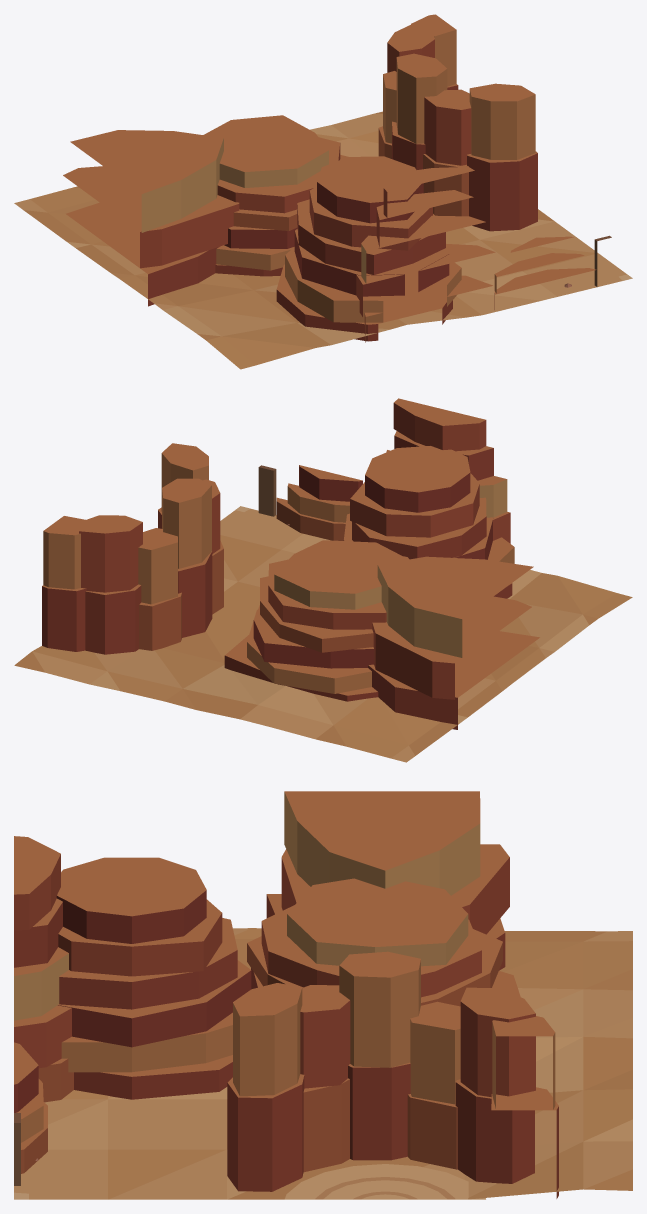
3 views of the same model, one above another, from view 1: azimuth 30°, elevation 25°; view 2: azimuth 150°, elevation 25°; view 3: azimuth 270°, elevation 25° (orthographic). The views are drawn at different scales.
Parts seen in each view (by area): view 1: baked; view 2: baked; view 3: baked.
Boxes of the visible parts, x1,y1,x2,y2 form: baked: (14,14,632,369); baked: (14,398,632,762); baked: (14,791,632,1199).
Size of the model in its own units: 62.5 by 22.27 by 62.5.
